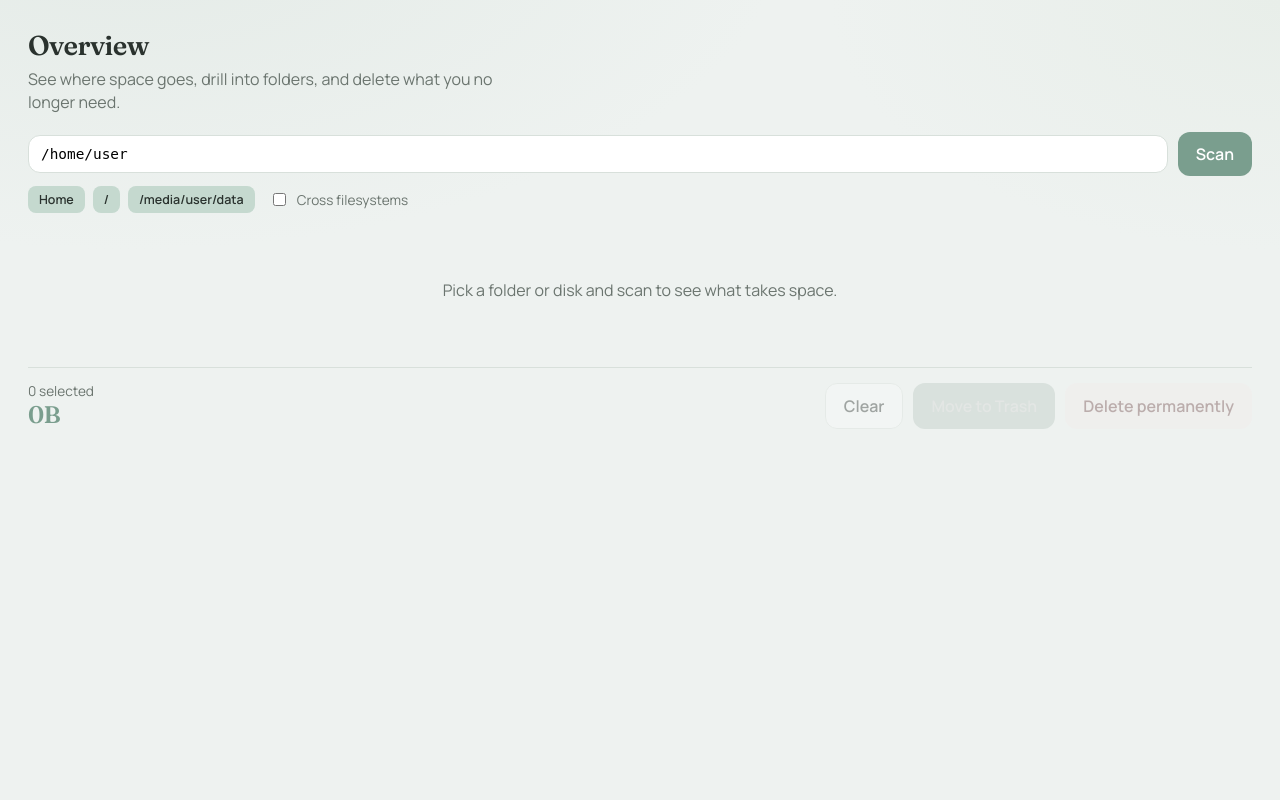
Test: OverviewPanel › scanning / explains invisible space and locks system paths
Replace the text in the field named "Folder to scan" with "/" at (598, 154), box [28,135,1168,173]
Then press Enter
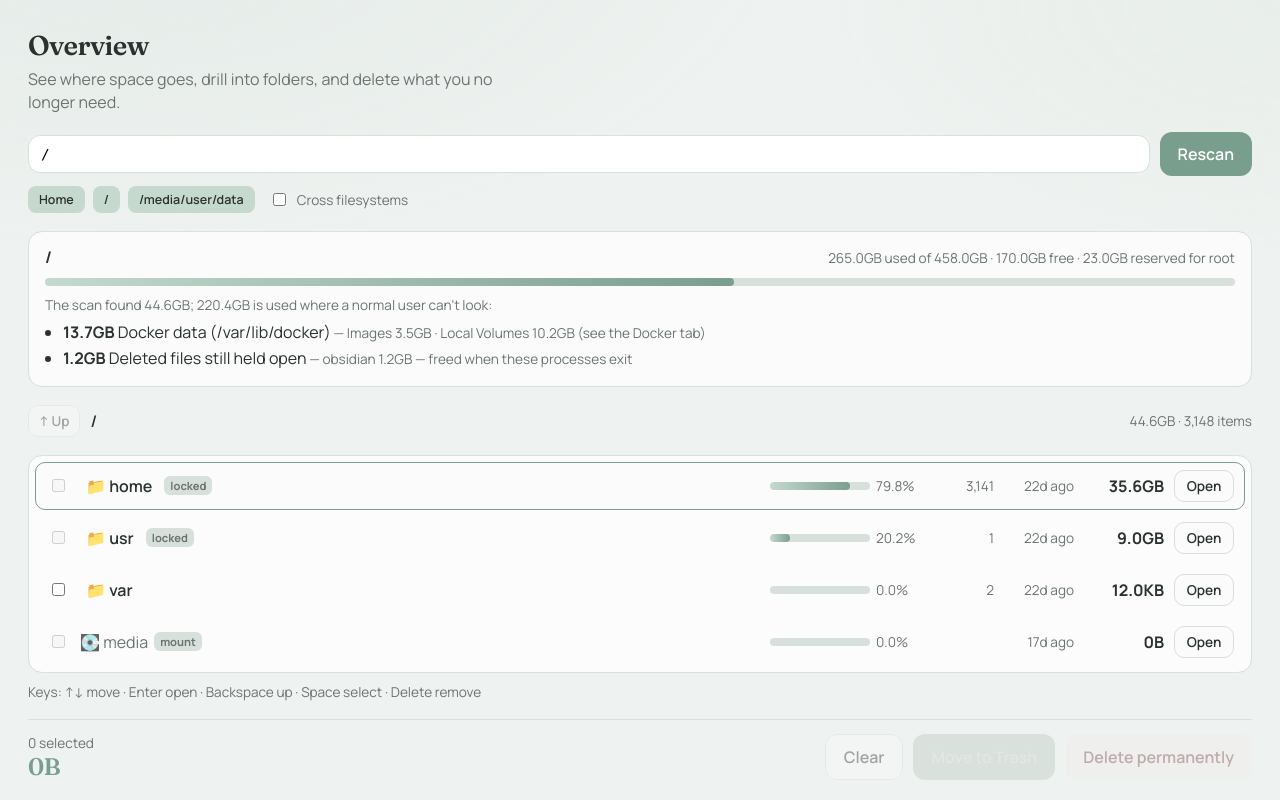
Check: the table named "Folder contents" is shown, box [28,455,1252,673]
Check: the element named "Disk usage" shows "Docker data (/var/lib/docker)", box [118,321,331,343]
Check: the element named "Disk usage" shows "Deleted files still held open", box [109,347,306,369]
